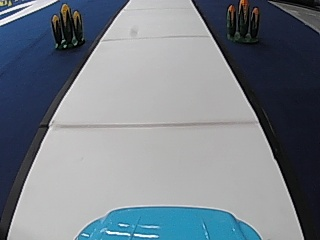corn: (49, 2, 85, 49), (223, 0, 262, 43)
